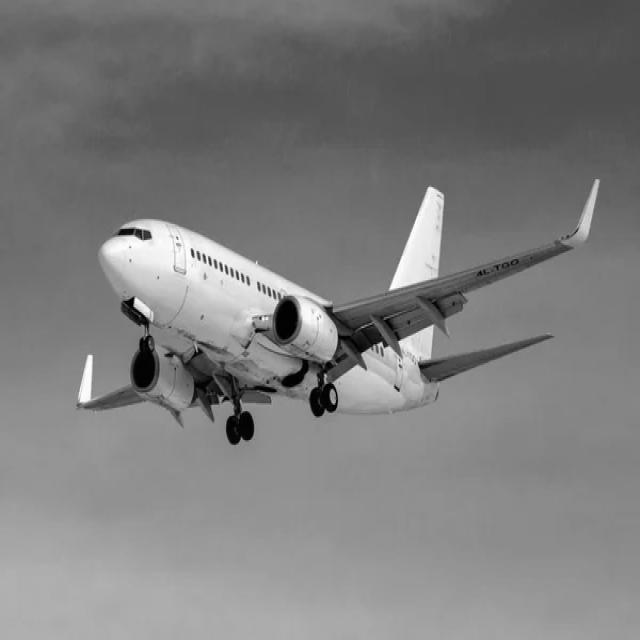Aircraft: (68, 163, 607, 461)
